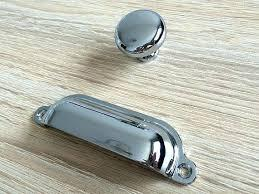cabinet_door: (3, 8, 259, 193)
handle: (28, 95, 217, 181), (110, 11, 184, 80)
